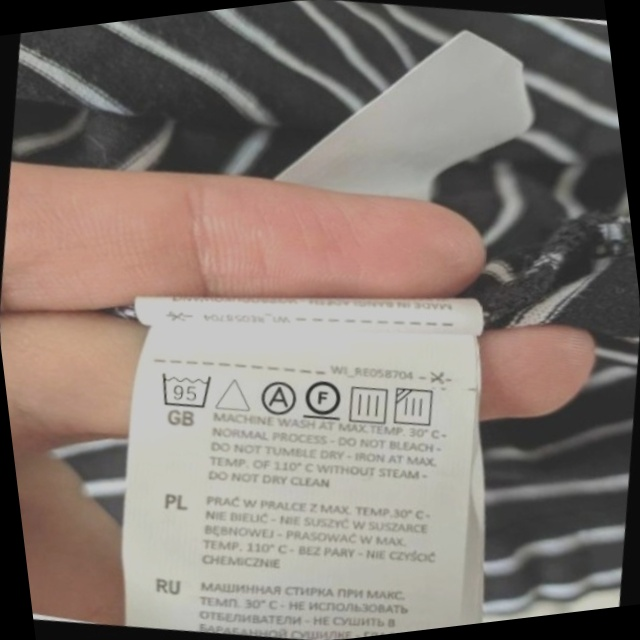95C: (153, 363, 219, 417)
bleach: (211, 368, 257, 419)
drip_dry: (341, 377, 396, 431)
drip_dry_in_shade: (388, 380, 444, 435)
dry_clean: (253, 374, 302, 421)
dry_clean_petrol_only: (298, 370, 349, 426)
